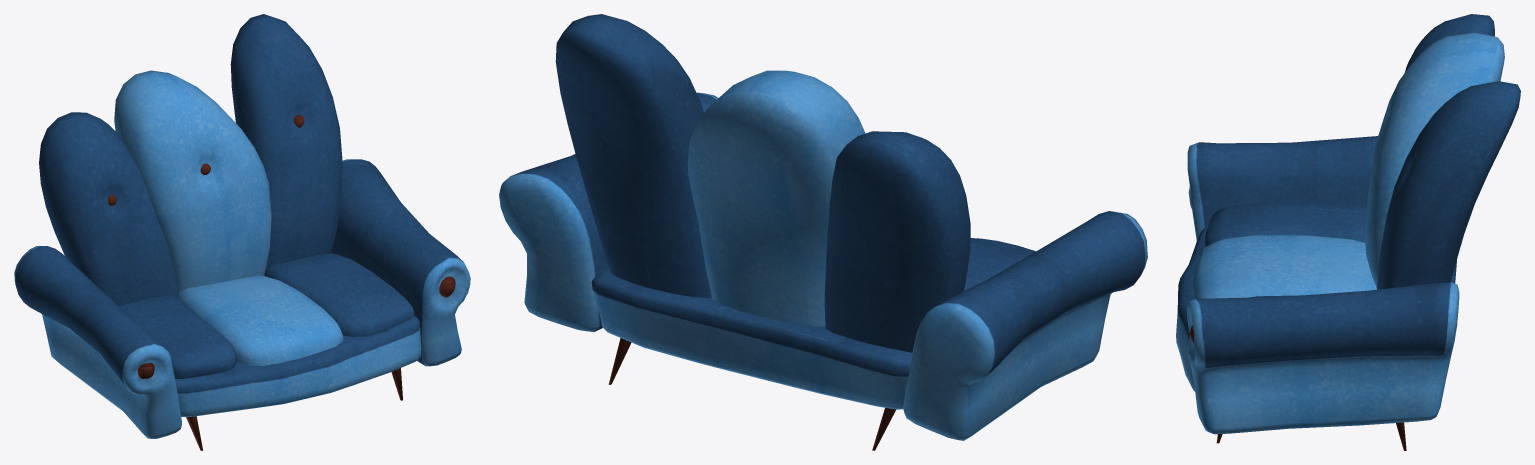
Rendered from sofa.fbx.
The picture shows the model from 3 angles, left to right: view 1: azimuth 30°, elevation 25°; view 2: azimuth 150°, elevation 25°; view 3: azimuth 270°, elevation 25°; orthographic projection. The views are drawn at different scales.
Parts seen in each view (by area): view 1: Sketchfab Model; view 2: Sketchfab Model; view 3: Sketchfab Model.
Part boxes in pixels (x1,y1,x2,y2): Sketchfab Model: [14, 14, 470, 450]; Sketchfab Model: [499, 14, 1147, 450]; Sketchfab Model: [1176, 14, 1520, 450].
Bounding box in the file's own units: 838 × 662 × 593.
1 material, 1 textured.
